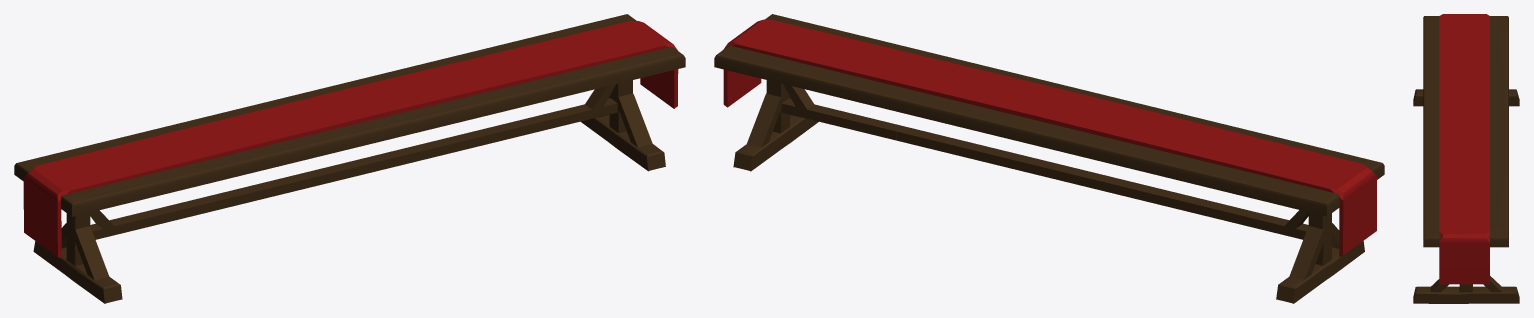
File: TEMP_DiningTable.fbx
3 views of the same model, side by side, from view 1: azimuth 30°, elevation 25°; view 2: azimuth 150°, elevation 25°; view 3: azimuth 270°, elevation 25° (orthographic). The views are drawn at different scales.
Visible parts, largest first — view 1: Table; view 2: Table; view 3: Table.
Boxes of the visible parts, left/top/right/bottom form: Table: left=14, top=14, right=685, bottom=303; Table: left=714, top=14, right=1384, bottom=303; Table: left=1413, top=14, right=1519, bottom=303.
Size of the model in its own units: 7.35 by 1.2 by 1.46.
